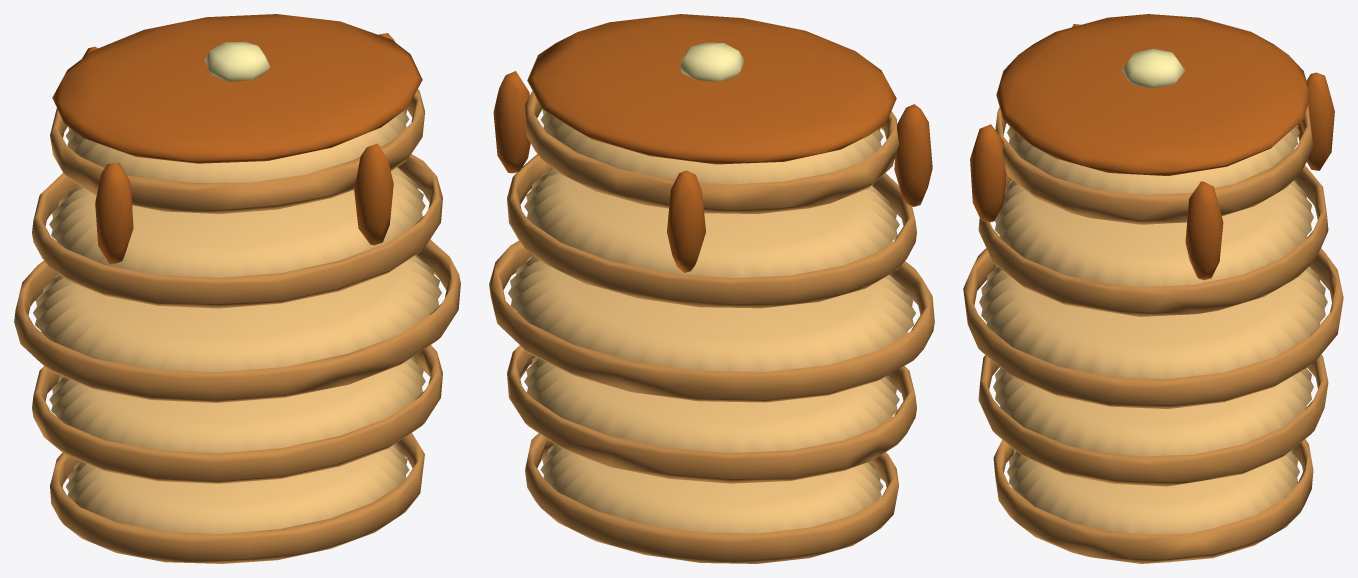
The model's file is tb_mat_pannekake.glb.
The picture shows the model from 3 angles, left to right: view 1: azimuth 30°, elevation 25°; view 2: azimuth 150°, elevation 25°; view 3: azimuth 270°, elevation 25°; orthographic projection. The views are drawn at different scales.
Parts seen in each view (by area): view 1: matkropp; view 2: matkropp; view 3: matkropp.
Boxes of the visible parts, left/top/right/bottom form: matkropp: left=14, top=14, right=460, bottom=563; matkropp: left=489, top=14, right=934, bottom=563; matkropp: left=963, top=14, right=1343, bottom=563.
Size of the model in its own units: 0.8221 by 0.9275 by 0.6995.
